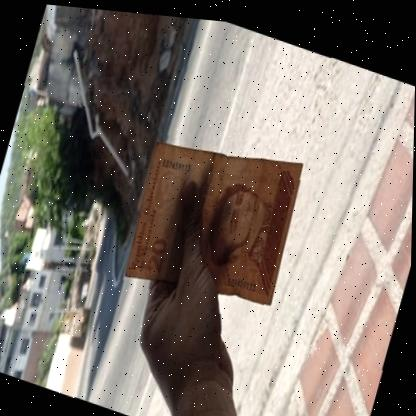twenty-front-vef: (117, 108, 312, 324)
